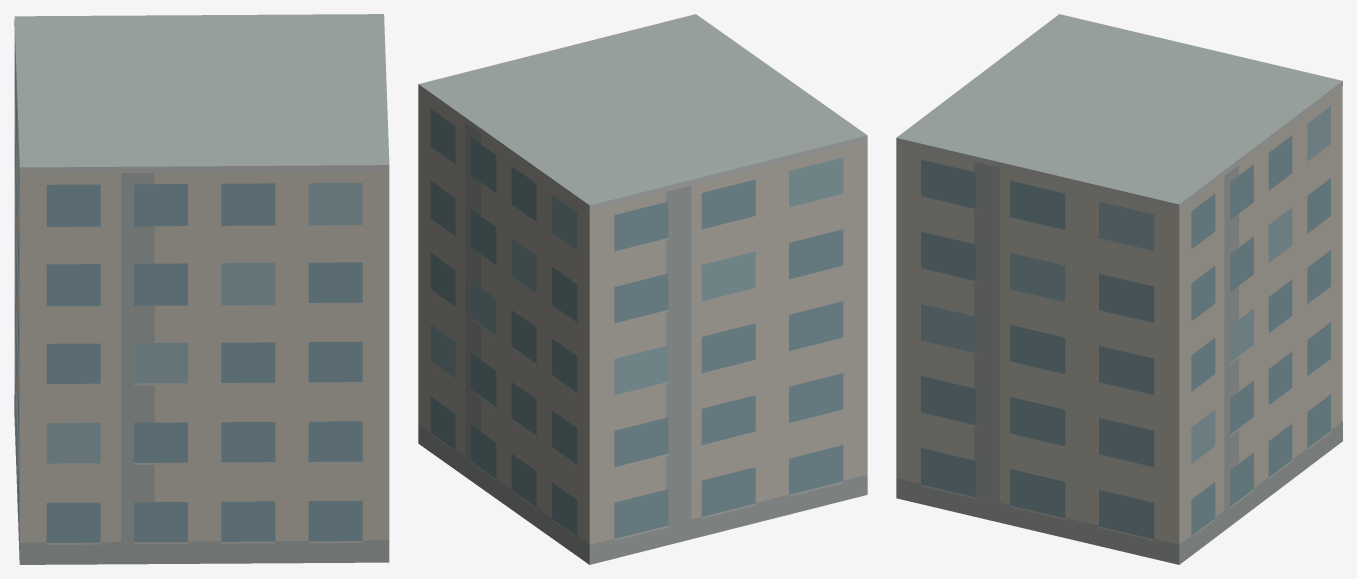
File: residential-beae2f43-3536-4aca-9f9c-b78049d6e783.glb
3 renders of one model, left to right at view 1: azimuth 30°, elevation 25°; view 2: azimuth 150°, elevation 25°; view 3: azimuth 270°, elevation 25°, orthographic. The views are drawn at different scales.
Parts seen in each view (by area): view 1: residential-beae2f43-3536-4aca-9f9c-b78049d6e783.tmp; view 2: residential-beae2f43-3536-4aca-9f9c-b78049d6e783.tmp; view 3: residential-beae2f43-3536-4aca-9f9c-b78049d6e783.tmp.
Part boxes in pixels (<box>): residential-beae2f43-3536-4aca-9f9c-b78049d6e783.tmp: <box>14,14,389,564</box>; residential-beae2f43-3536-4aca-9f9c-b78049d6e783.tmp: <box>418,14,867,564</box>; residential-beae2f43-3536-4aca-9f9c-b78049d6e783.tmp: <box>896,14,1342,564</box>.
Bounding box in the file's own units: 17.29 × 15.25 × 17.13.
